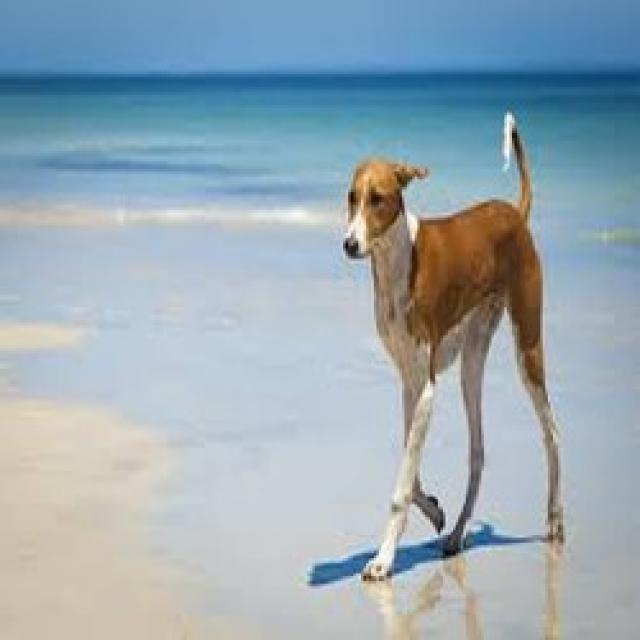dog: (344, 113, 564, 581)
